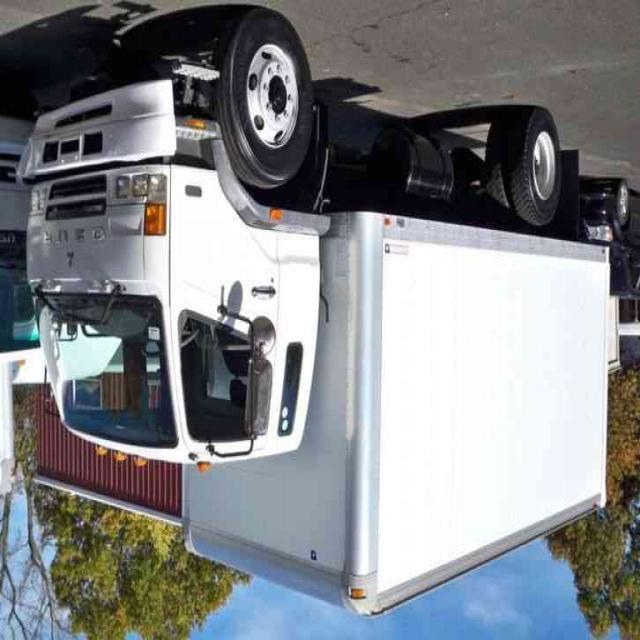truck: (16, 15, 606, 618)
